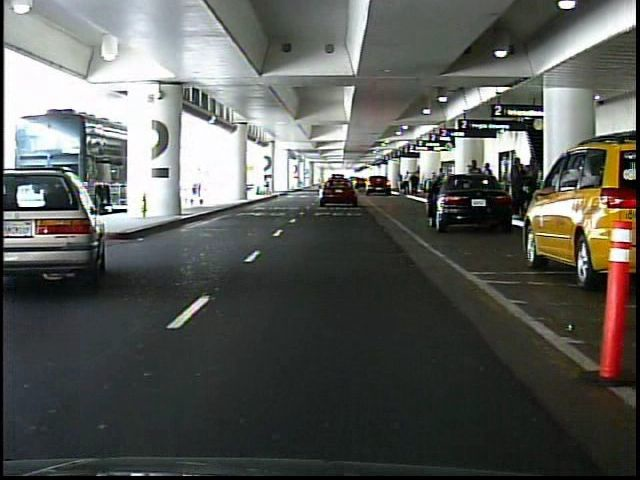person: (520, 155, 540, 221), (506, 158, 526, 219), (467, 158, 484, 210), (482, 162, 498, 211), (403, 170, 412, 197), (411, 173, 420, 198), (397, 175, 404, 193)
